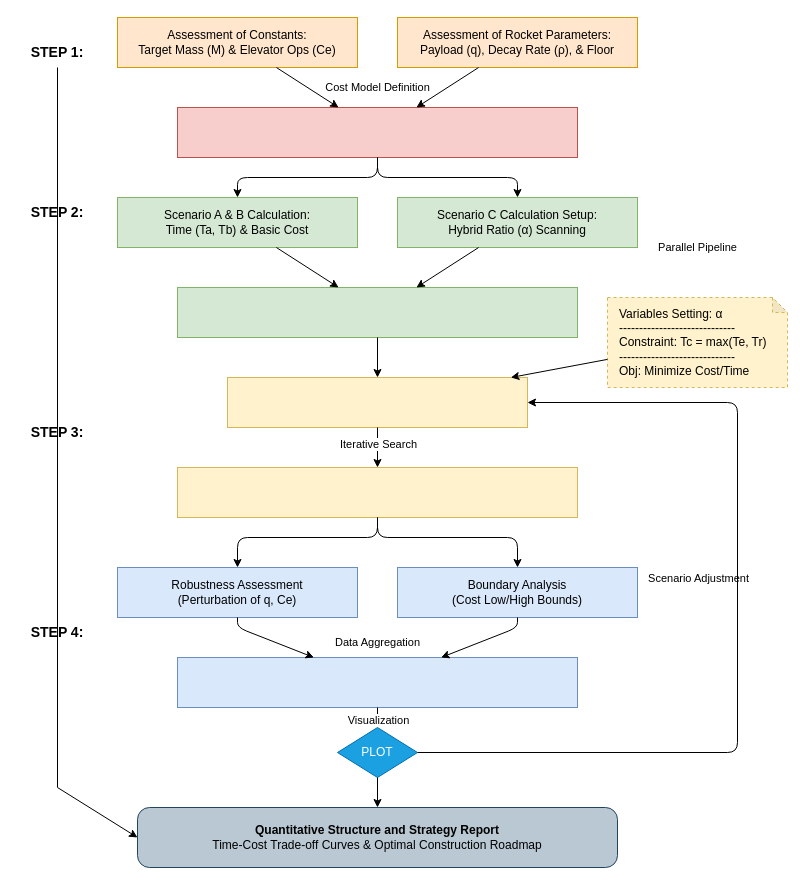
This 805x885 diagram has some shape labels left out. The shapes that lost their labels are listed below. From the top down, each one's box as (x1, y1, x2, y2) in pixels, then its label:
(176, 106, 578, 158): Initialization of Learning Curve Cost Model C_L(y) and Cost Functions
(176, 286, 578, 338): Measurement of Delivery Timelines (Te, Tr) for each Hybrid Ratio α
(226, 376, 528, 428): Construction of Multi-Objective Optimization Model (Time vs Cost)
(176, 466, 578, 518): The optimal solution of hybrid ratio (α*) and minimum time (T_min)
(176, 656, 578, 708): Identification of Pareto Front (Cost-Time) and Feasible Strategy Region
